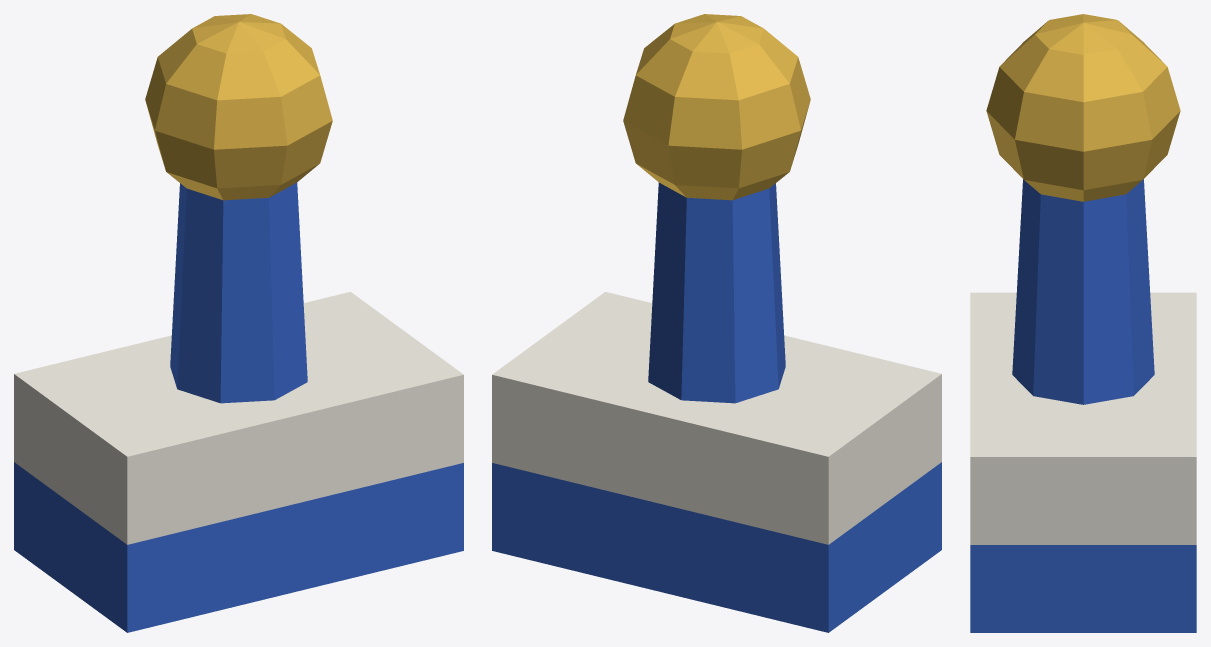
The model's file is fair_inspector_stamp.glb.
3 views of the same model, side by side, from view 1: azimuth 30°, elevation 25°; view 2: azimuth 150°, elevation 25°; view 3: azimuth 270°, elevation 25° (orthographic).
Parts seen in each view (by area): view 1: base_fair_white, block_ferris_blue, handle_fair_gold, handle_ferris_blue; view 2: base_fair_white, block_ferris_blue, handle_fair_gold, handle_ferris_blue; view 3: base_fair_white, handle_fair_gold, handle_ferris_blue, block_ferris_blue.
Part boxes in pixels (x1,y1,x2,y2): base_fair_white: (14, 292, 463, 544); block_ferris_blue: (14, 462, 463, 632); handle_fair_gold: (145, 14, 332, 200); handle_ferris_blue: (170, 182, 307, 403); base_fair_white: (492, 292, 941, 544); block_ferris_blue: (492, 462, 941, 632); handle_fair_gold: (623, 14, 810, 200); handle_ferris_blue: (648, 182, 785, 403); base_fair_white: (970, 292, 1196, 544); handle_fair_gold: (986, 14, 1180, 201); handle_ferris_blue: (1012, 179, 1154, 404); block_ferris_blue: (970, 545, 1196, 632).
Size of the model in its own units: 0.12 by 0.18 by 0.07.
